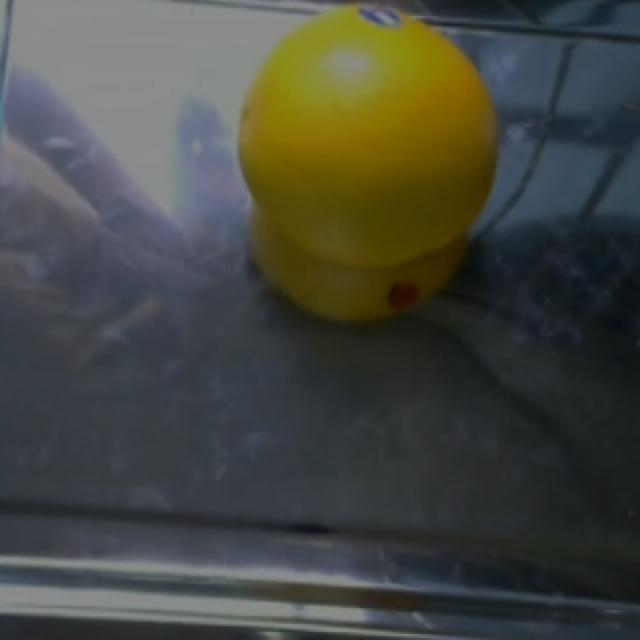Fruit: (225, 0, 508, 338)
